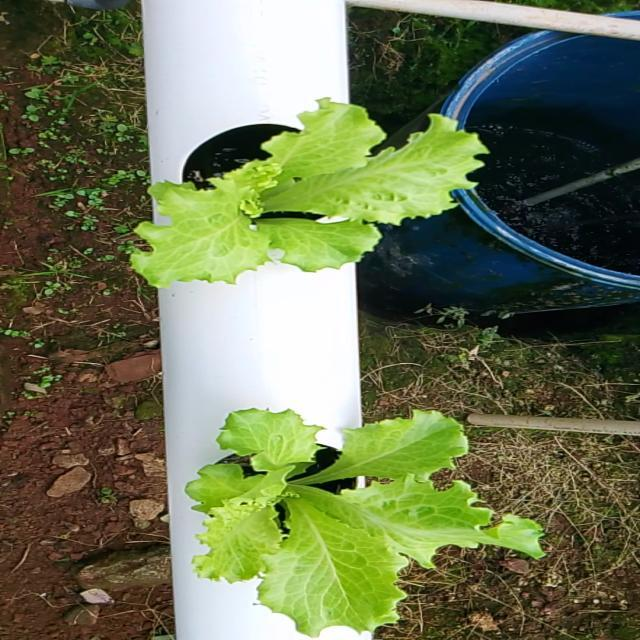Baby: (192, 407, 547, 638), (139, 97, 502, 287)
